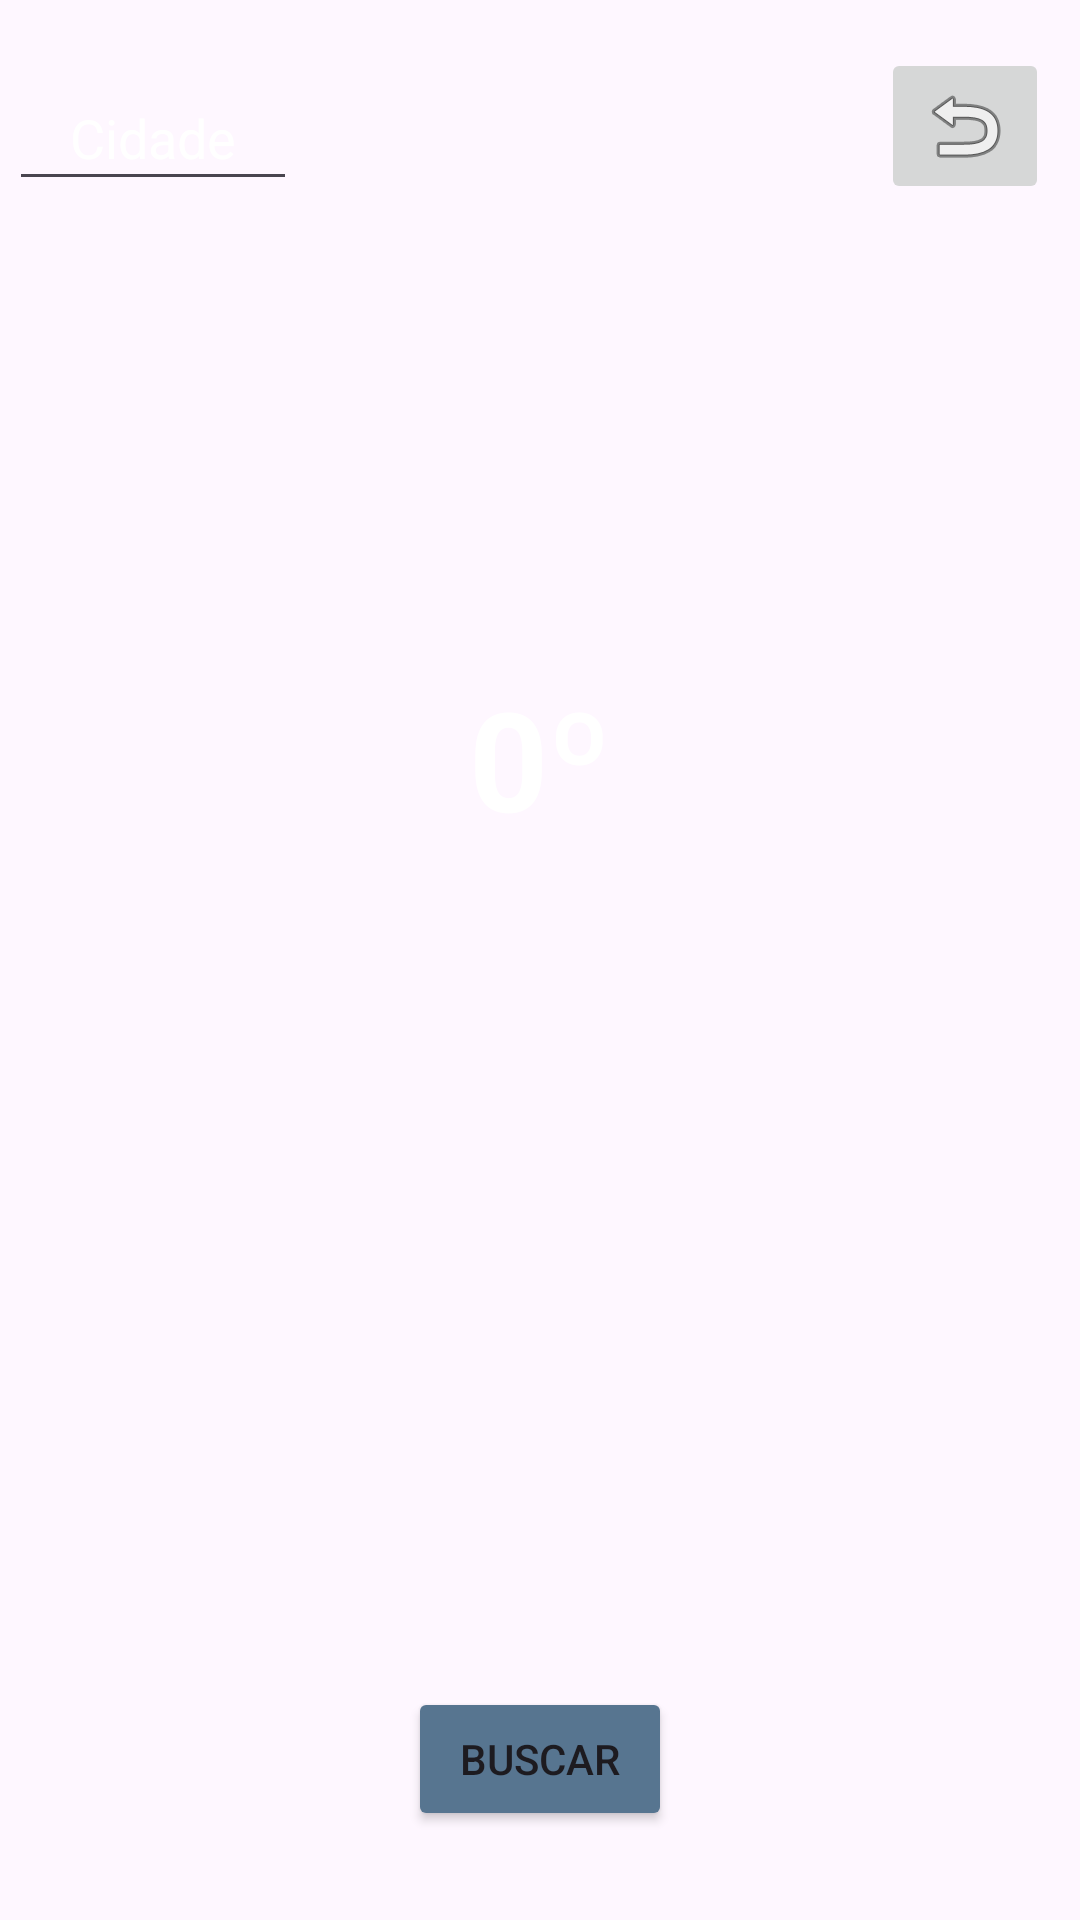

Where icons sit on this 1080×1920 app screen, as (x1, y1, x2, y2):
revert: (893, 66, 1037, 186)
